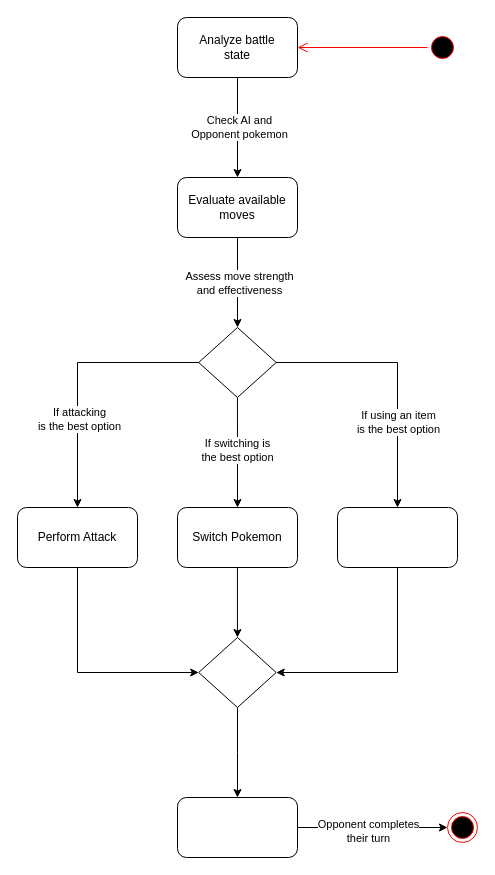
The diagram is 495 pixels wide and 875 high, and some of its shapes have lost their labels. Here are the shapes that lost their labels. From the top down, the box of each, then its label:
(336, 506, 458, 568): Use Item
(176, 796, 298, 858): Wait for Opponent Action
